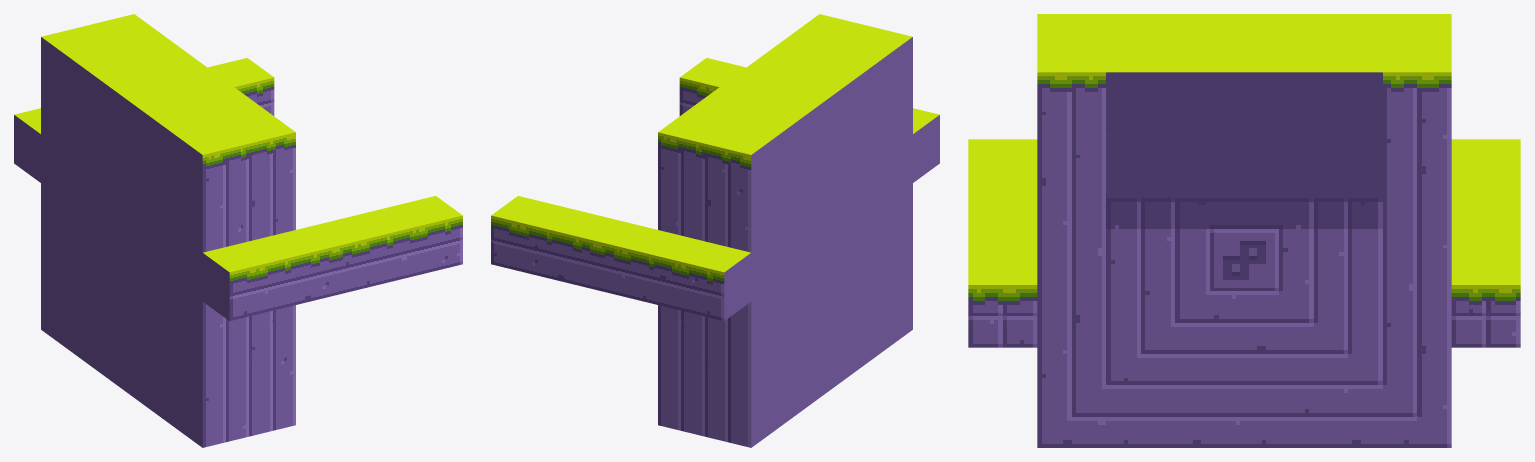
The model's file is zuon_bodyao.fezao.glb.
3 renders of one model, left to right at view 1: azimuth 30°, elevation 25°; view 2: azimuth 150°, elevation 25°; view 3: azimuth 270°, elevation 25°, orthographic. The views are drawn at different scales.
Parts seen in each view (by area): view 1: ZUON_BODYAO; view 2: ZUON_BODYAO; view 3: ZUON_BODYAO.
Boxes of the visible parts, x1,y1,x2,y2 form: ZUON_BODYAO: (14,14,462,447); ZUON_BODYAO: (491,14,939,447); ZUON_BODYAO: (968,14,1520,447).
Bounding box in the file's own units: 5 × 6 × 8.
1 material, 1 textured.
